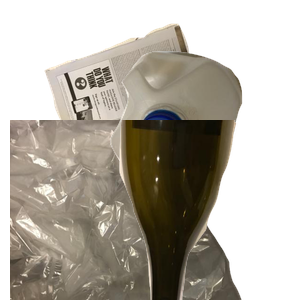glass: (117, 120, 300, 300)
paper: (42, 21, 249, 181)
plastic: (108, 49, 300, 226)
trash: (10, 120, 244, 300)
